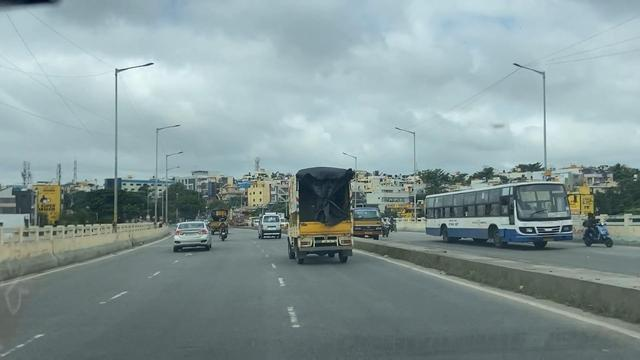HMV: (424, 178, 576, 256), (286, 163, 360, 264)
